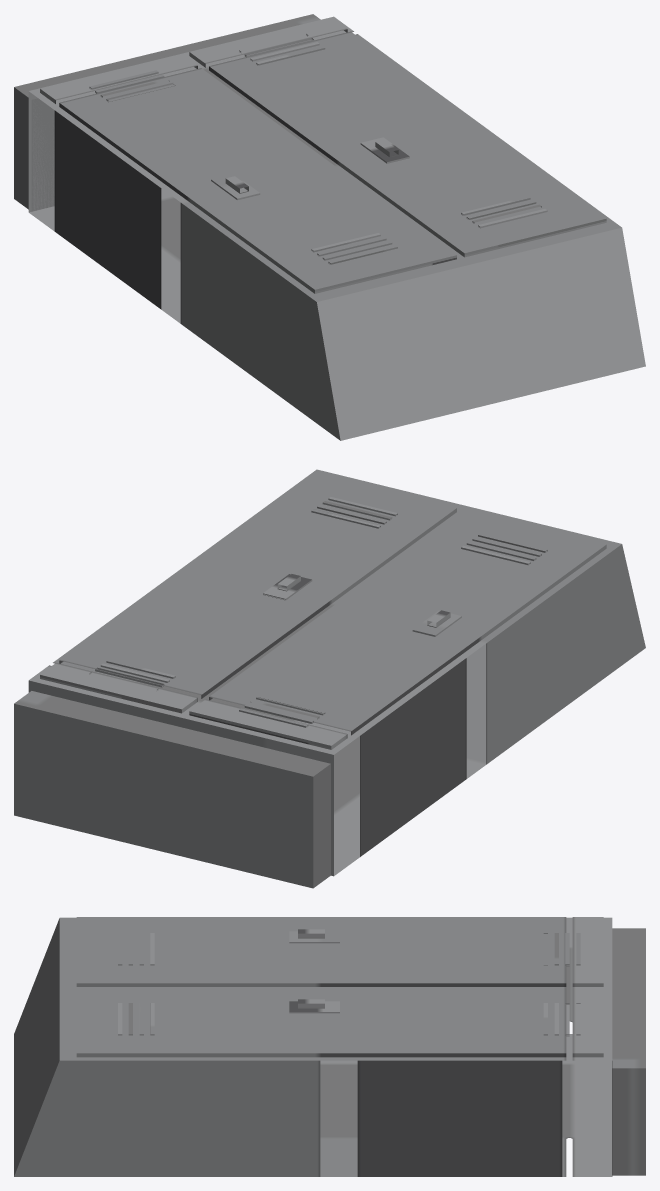
3 renders of one model, top to bottom at view 1: azimuth 30°, elevation 25°; view 2: azimuth 150°, elevation 25°; view 3: azimuth 270°, elevation 25°, orthographic. The views are drawn at different scales.
Size of the model in its own units: 1 by 0.414 by 1.87.
